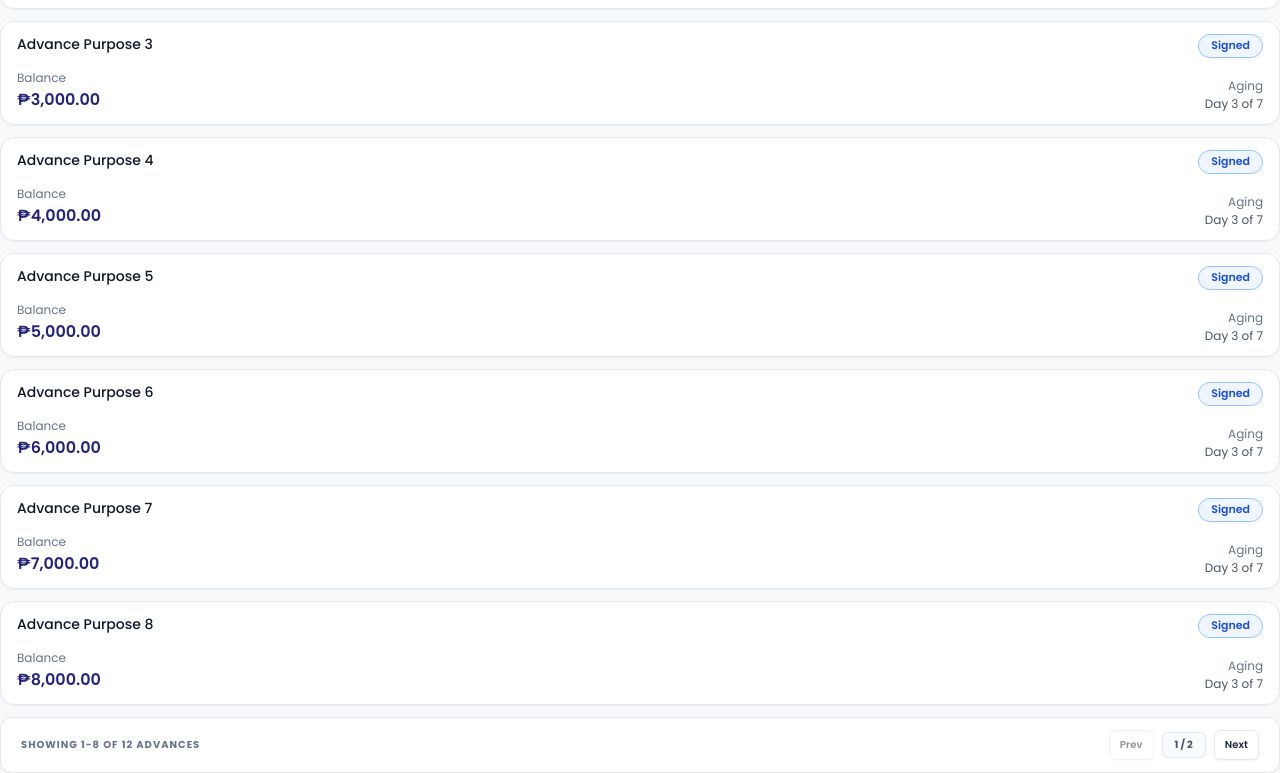
Test case: LiquidationAdvancesList Component › navigates to the next page when Next button is clicked
The width and height of the screenshot is (1280, 773).
(page scrolled)
Click the button "Next" at (1236, 745), box [1214,730,1259,760]
(page scrolled)
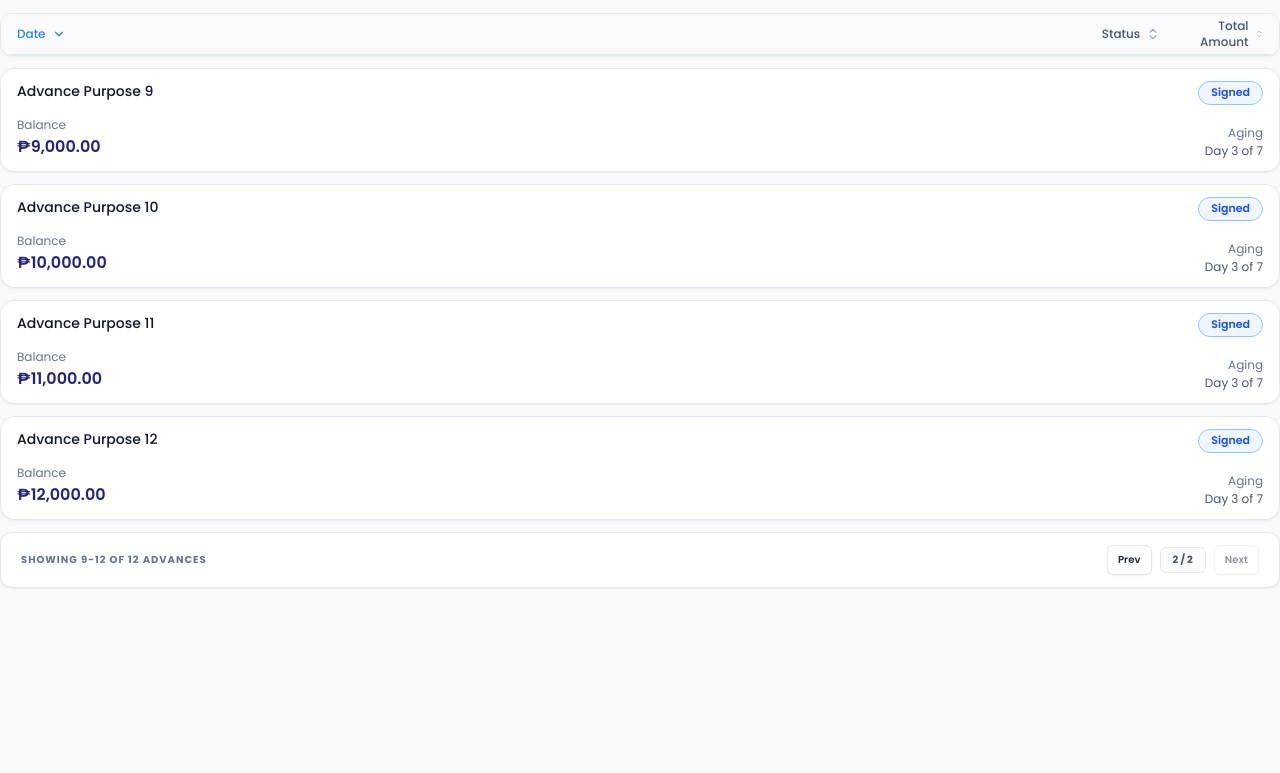
Expected: the text "Showing 9-12 of 12 advances" is shown, [21,552,207,568]
Expected: the text "2 / 2" is shown, [1160,547,1206,573]
Expected: the text with class "truncate" reads "Advance Purpose 9", [17,81,153,101]
